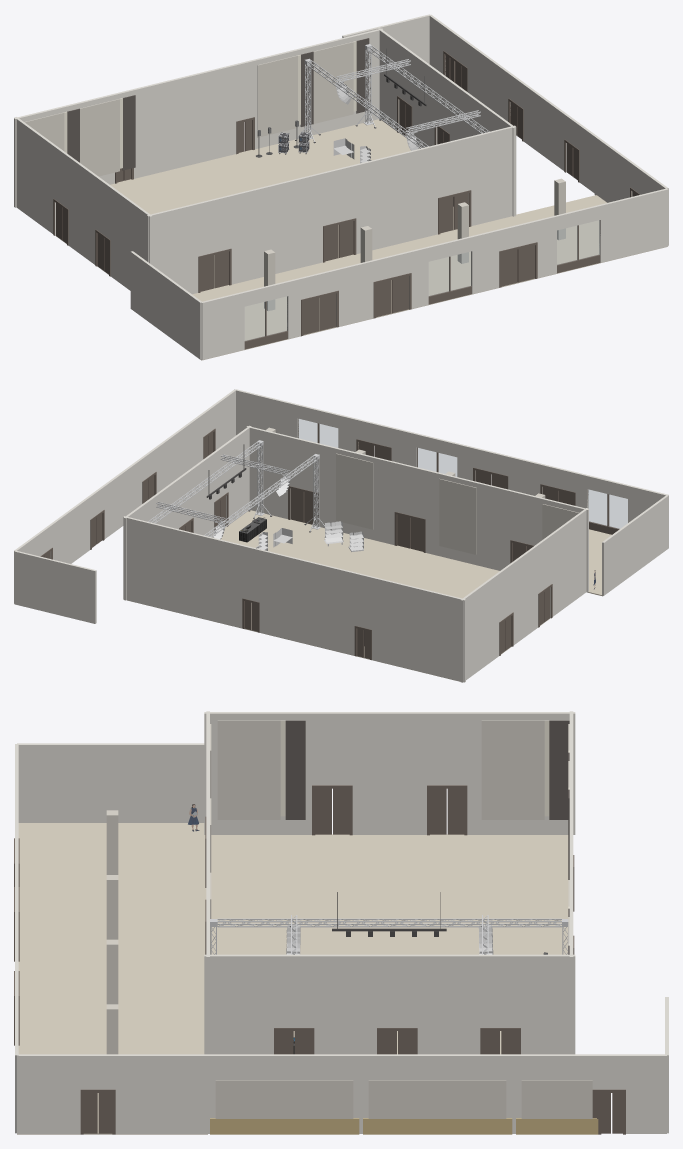
3 views of the same model, one above another, from view 1: azimuth 30°, elevation 25°; view 2: azimuth 150°, elevation 25°; view 3: azimuth 270°, elevation 25° (orthographic). The views are drawn at different scales.
Parts seen in each view (by area): view 1: Geom3D (×13); view 2: Geom3D (×7), Geom3D_CabinetsMainArray; view 3: Geom3D (×15).
Part boxes in pixels (<box>): Geom3D (×13): <box>14,14,668,360</box>; Geom3D (×7): <box>14,389,668,682</box>; Geom3D_CabinetsMainArray: <box>258,521,363,550</box>; Geom3D (×15): <box>15,711,668,1134</box>.
Size of the model in its own units: 38.76 by 9.13 by 34.25.
Materials: 70 (13 with a texture image).
